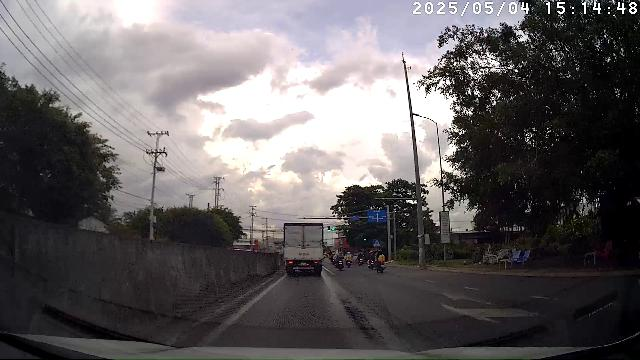423a-duong-nguoi-di-bo-sang-ngang-1: (373, 238, 381, 247)
